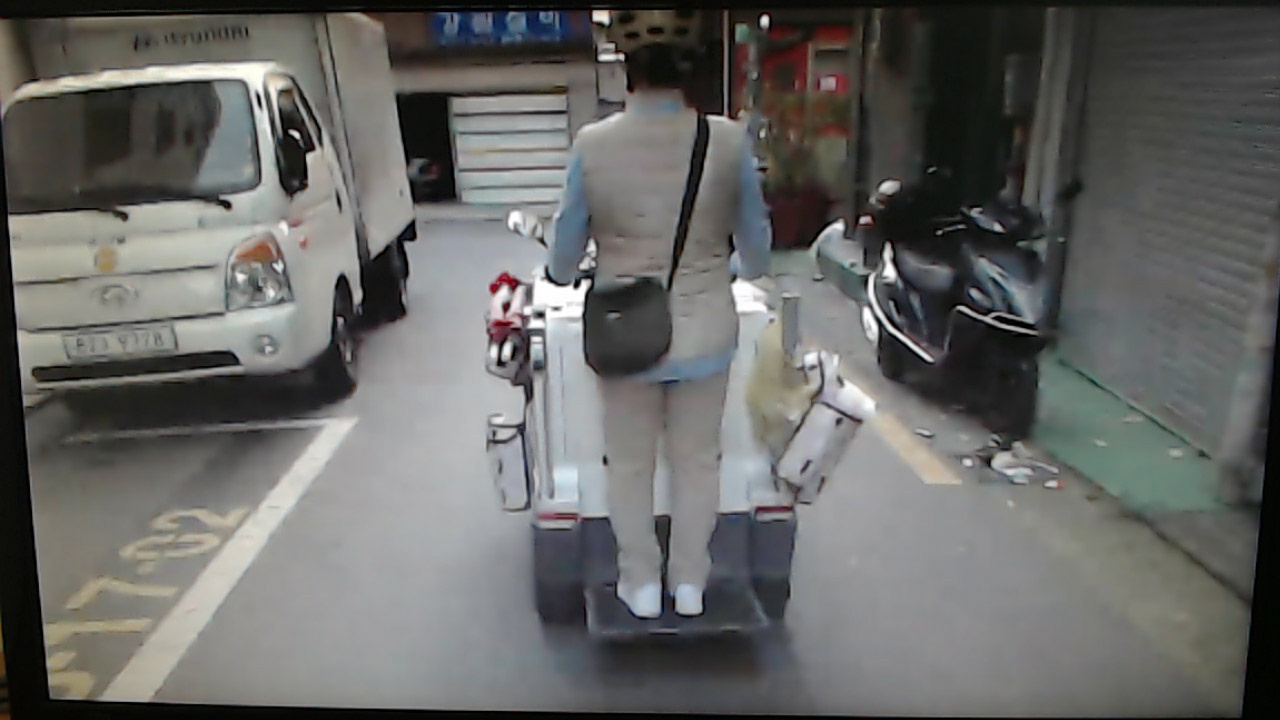Yakurut: (530, 14, 789, 631)
